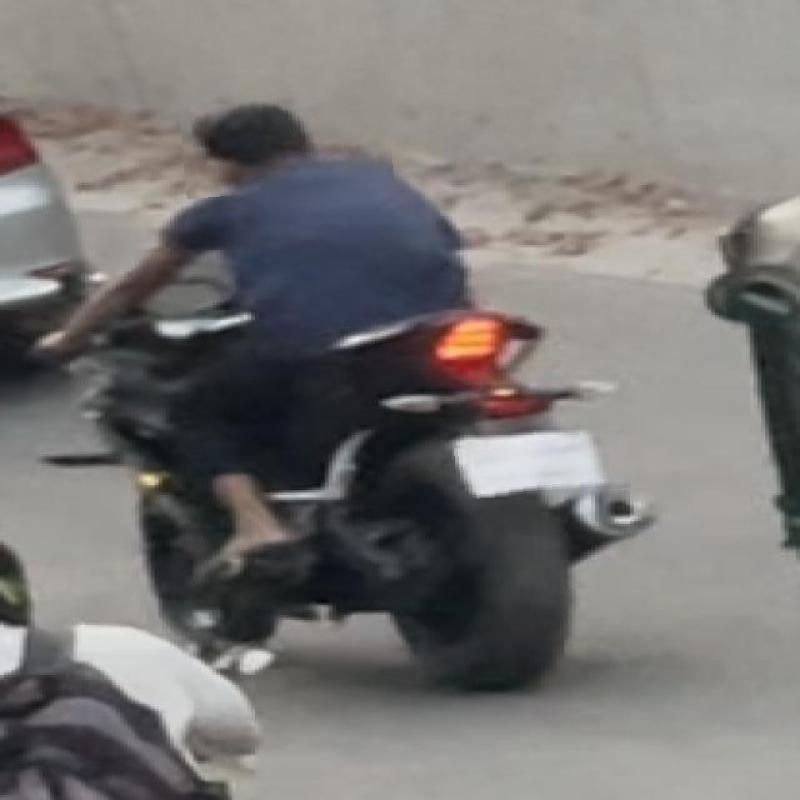nohelmet: (180, 70, 392, 195), (454, 436, 646, 497)
